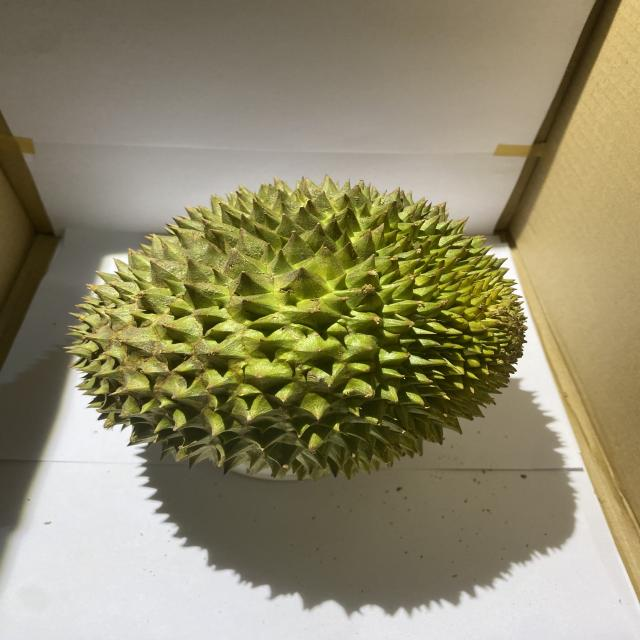immature: (64, 174, 532, 484)
